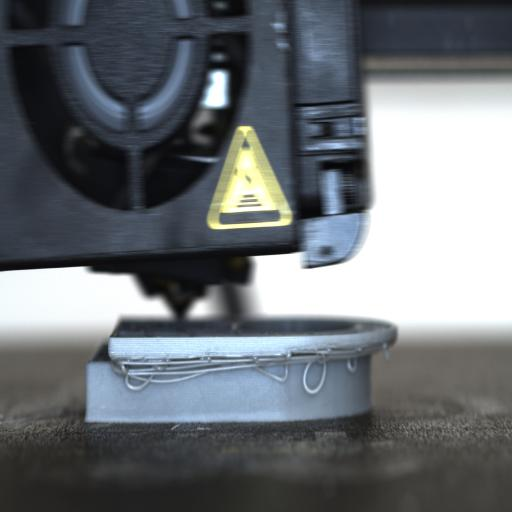layer_shift: (84, 344, 394, 368)
